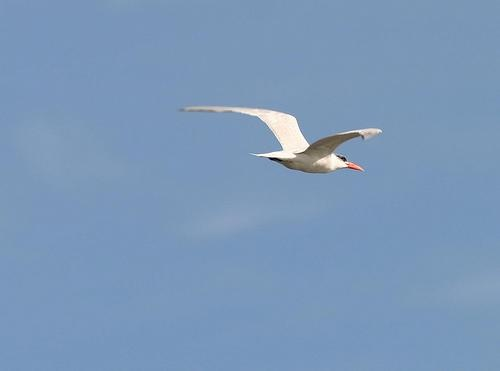bird: (176, 103, 383, 178)
